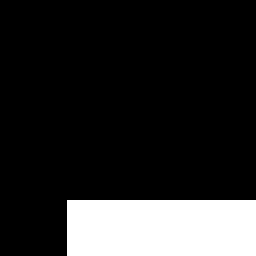rumex: (67, 200, 255, 256)
